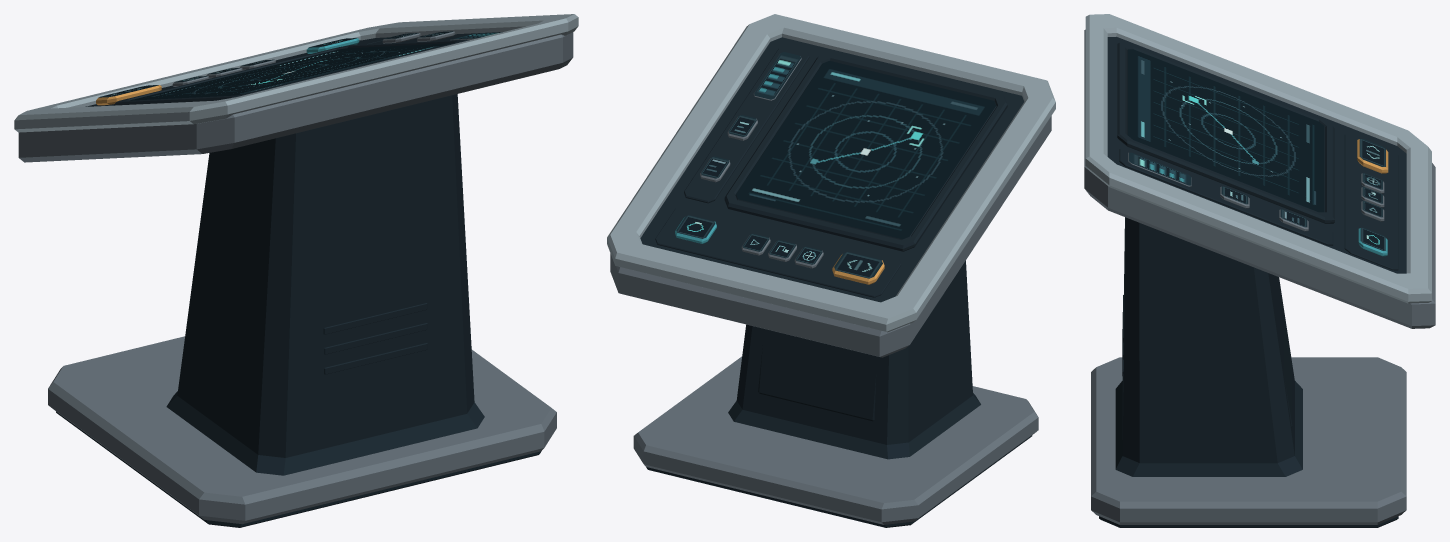
File: starmap_console.obj
3 renders of one model, left to right at view 1: azimuth 30°, elevation 25°; view 2: azimuth 150°, elevation 25°; view 3: azimuth 270°, elevation 25°, orthographic. The views are drawn at different scales.
Visible parts, largest first — view 1: rearward_tapered_pedestal, chamfered_floor_plate, deck_lower_shell, continuous_chamfered_outer_frame, inset_chart_glass, navigation_screen_rim, floor_gasket, rear_vent_slot_01, rear_vent_slot_02, rear_vent_slot_03; view 2: continuous_chamfered_outer_frame, inset_chart_glass, chamfered_floor_plate, rearward_tapered_pedestal, deck_upper_inlay, deck_lower_shell, front_control_recess, navigation_screen_rim, pedestal_front_inset, aux_instrument_recess, course_selector, aux_status_glass (+4 smaller); view 3: rearward_tapered_pedestal, chamfered_floor_plate, continuous_chamfered_outer_frame, inset_chart_glass, deck_lower_shell, deck_upper_inlay, navigation_screen_rim, front_control_recess, aux_instrument_recess, floor_gasket, course_selector, aux_status_glass (+2 smaller).
Part boxes in pixels (<box>): rearward_tapered_pedestal: <box>166,94,484,475</box>; chamfered_floor_plate: <box>48,336,556,524</box>; deck_lower_shell: <box>18,32,573,162</box>; continuous_chamfered_outer_frame: <box>14,14,578,132</box>; inset_chart_glass: <box>130,43,451,100</box>; navigation_screen_rim: <box>113,39,467,105</box>; floor_gasket: <box>56,411,541,527</box>; rear_vent_slot_01: <box>324,343,427,374</box>; rear_vent_slot_02: <box>324,323,427,354</box>; rear_vent_slot_03: <box>323,303,427,334</box>; continuous_chamfered_outer_frame: <box>607,14,1055,332</box>; inset_chart_glass: <box>735,61,996,239</box>; chamfered_floor_plate: <box>633,356,1038,524</box>; rearward_tapered_pedestal: <box>728,260,980,459</box>; deck_upper_inlay: <box>640,37,1024,302</box>; deck_lower_shell: <box>610,116,1051,357</box>; front_control_recess: <box>655,206,901,297</box>; navigation_screen_rim: <box>724,52,1007,251</box>; pedestal_front_inset: <box>758,344,876,421</box>; aux_instrument_recess: <box>684,46,809,203</box>; course_selector: <box>832,252,884,284</box>; aux_status_glass: <box>753,52,801,100</box>; rearward_tapered_pedestal: <box>1115,217,1302,476</box>; chamfered_floor_plate: <box>1091,357,1406,524</box>; continuous_chamfered_outer_frame: <box>1085,14,1431,303</box>; inset_chart_glass: <box>1127,49,1324,212</box>; deck_lower_shell: <box>1084,29,1435,328</box>; deck_upper_inlay: <box>1107,36,1406,273</box>; navigation_screen_rim: <box>1117,42,1334,223</box>; front_control_recess: <box>1344,134,1398,270</box>; aux_instrument_recess: <box>1119,148,1333,245</box>; floor_gasket: <box>1099,516,1398,527</box>; course_selector: <box>1357,139,1388,173</box>; aux_status_glass: <box>1128,152,1191,186</box>.
Size of the model in its own units: 0.91 by 0.9755 by 0.8344.
